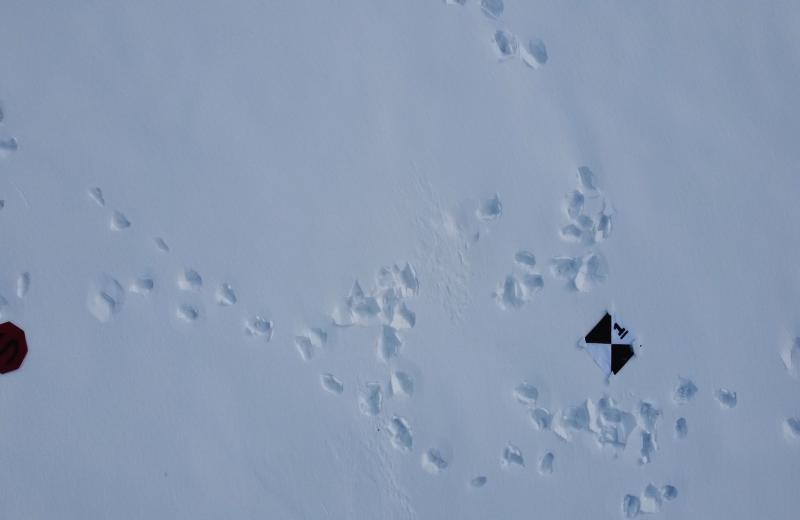Octagon: (0, 314, 30, 376)
